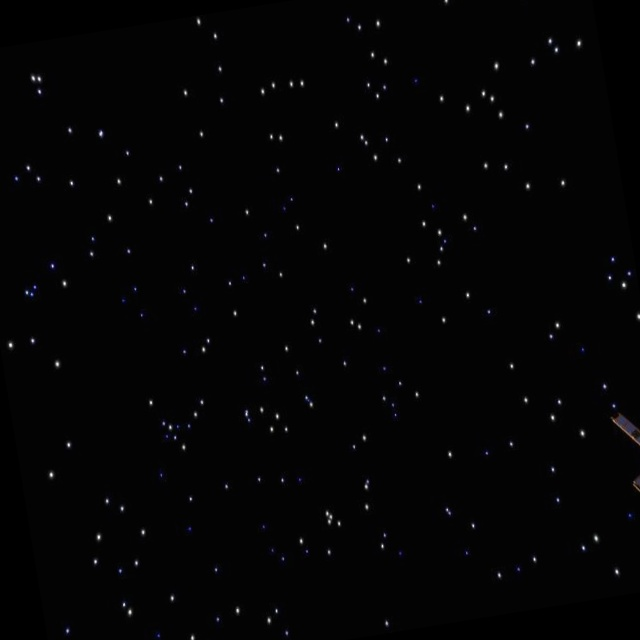medium_debris: (604, 395, 640, 534)
